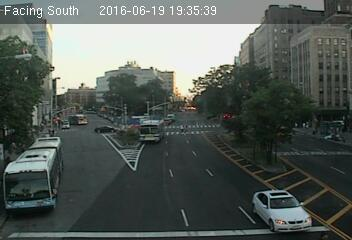neg: (55, 62, 75, 89), (115, 176, 134, 201), (145, 171, 163, 195), (277, 165, 295, 189), (74, 147, 91, 170), (301, 150, 318, 173), (245, 123, 261, 145), (301, 61, 317, 82), (264, 51, 280, 71), (190, 184, 205, 204), (185, 61, 200, 80), (125, 112, 139, 131), (240, 52, 254, 71), (205, 51, 219, 70), (128, 61, 142, 80), (96, 60, 110, 78), (222, 110, 234, 127), (275, 88, 287, 105), (163, 125, 175, 141), (59, 124, 71, 139), (156, 67, 167, 82), (38, 101, 49, 116), (225, 180, 236, 195), (318, 122, 328, 135)
